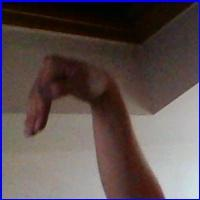A: (18, 50, 114, 143)
